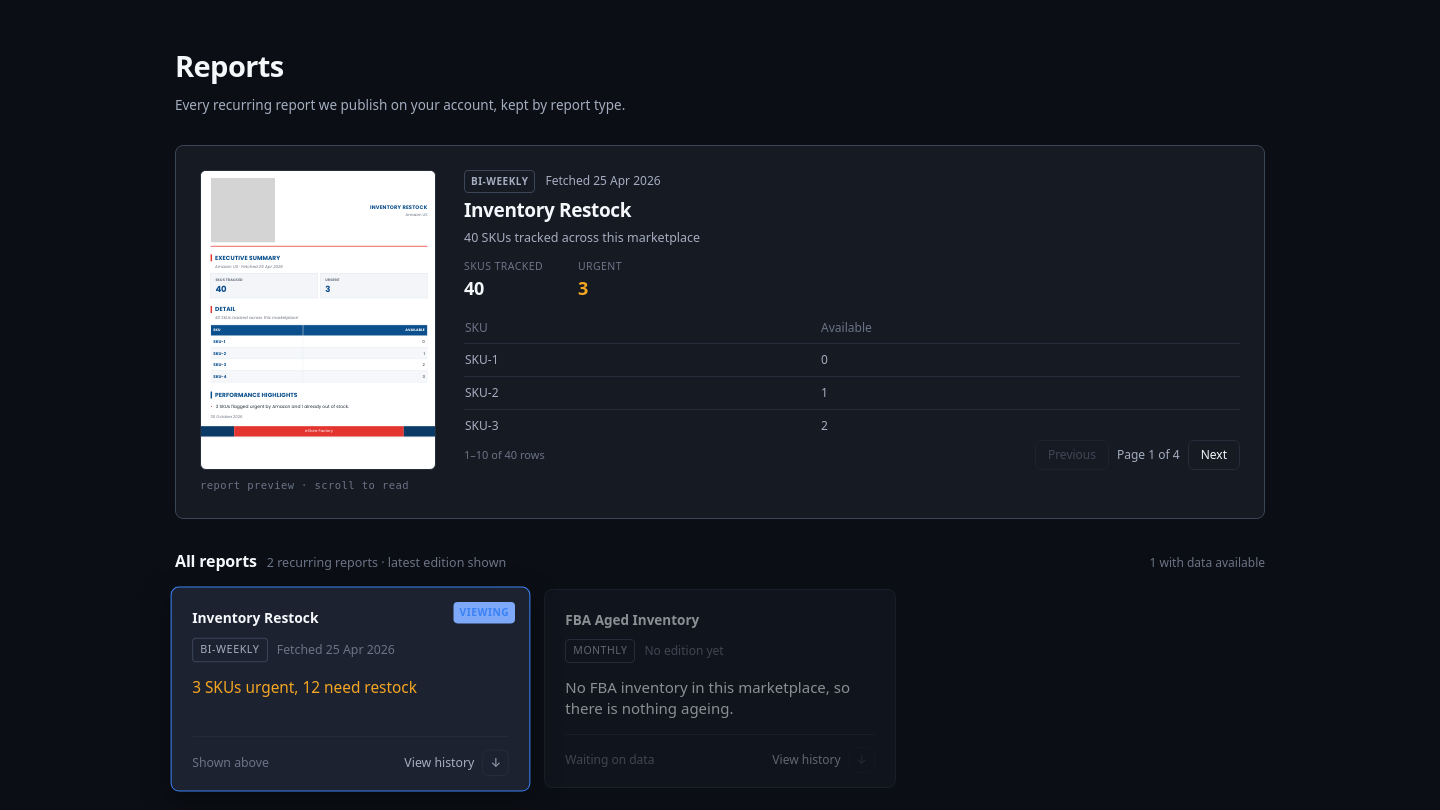
Test: ESF Reports page › fetches the next page and leaves the first page untouched going back
Check: the text "1–10 of 40 rows" is shown, box left=464, top=446, right=545, bottom=462
Click the button "Next" at (1214, 455), box left=1188, top=440, right=1240, bottom=470
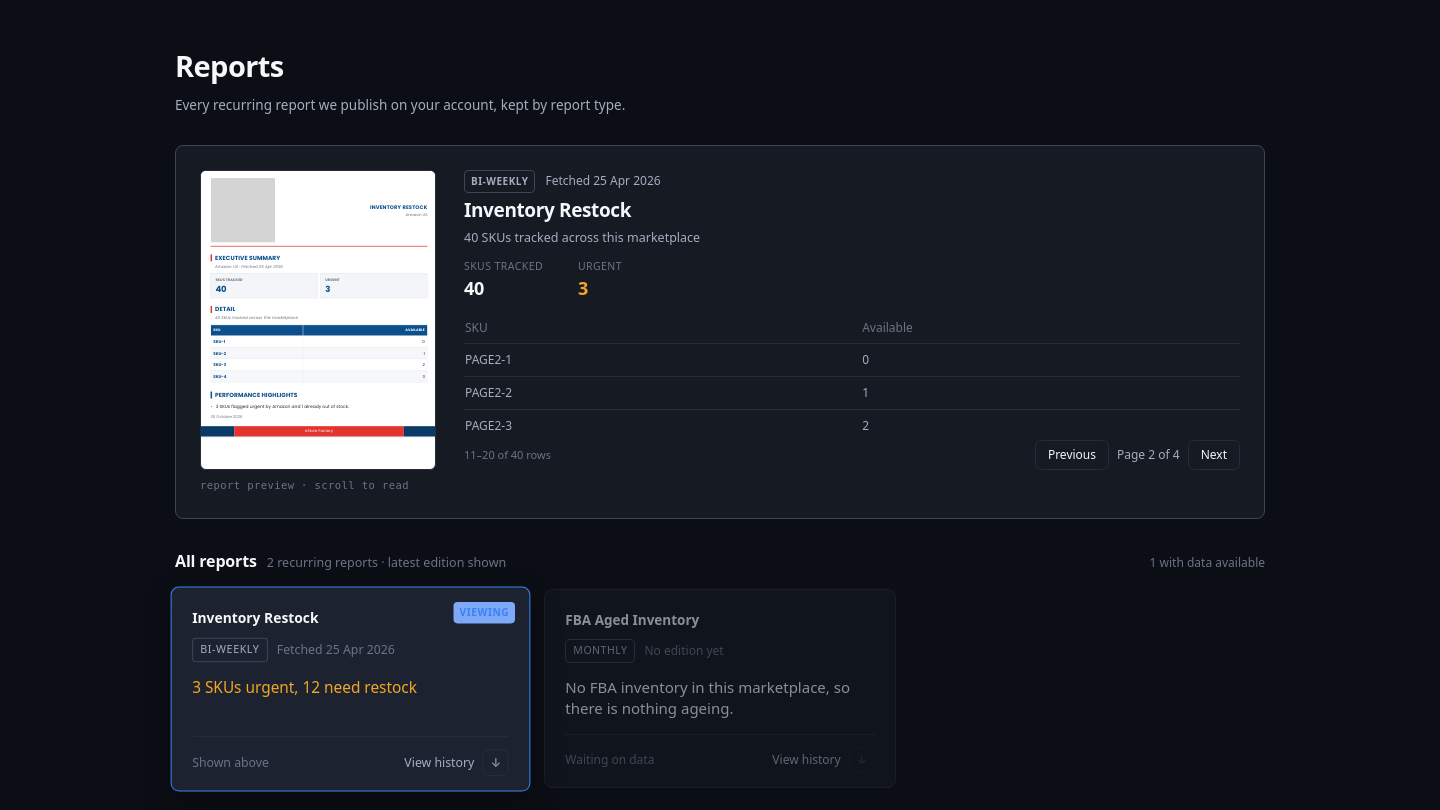
Check: the text "Page 2 of 4" is shown, box left=1117, top=447, right=1180, bottom=463
Check: the text "PAGE2-1" is shown, box left=464, top=344, right=861, bottom=376
# Going back to page 1 uses the rows that came with the card — no refetch.
Click the button "Previous" at (1072, 455), box left=1035, top=440, right=1109, bottom=470
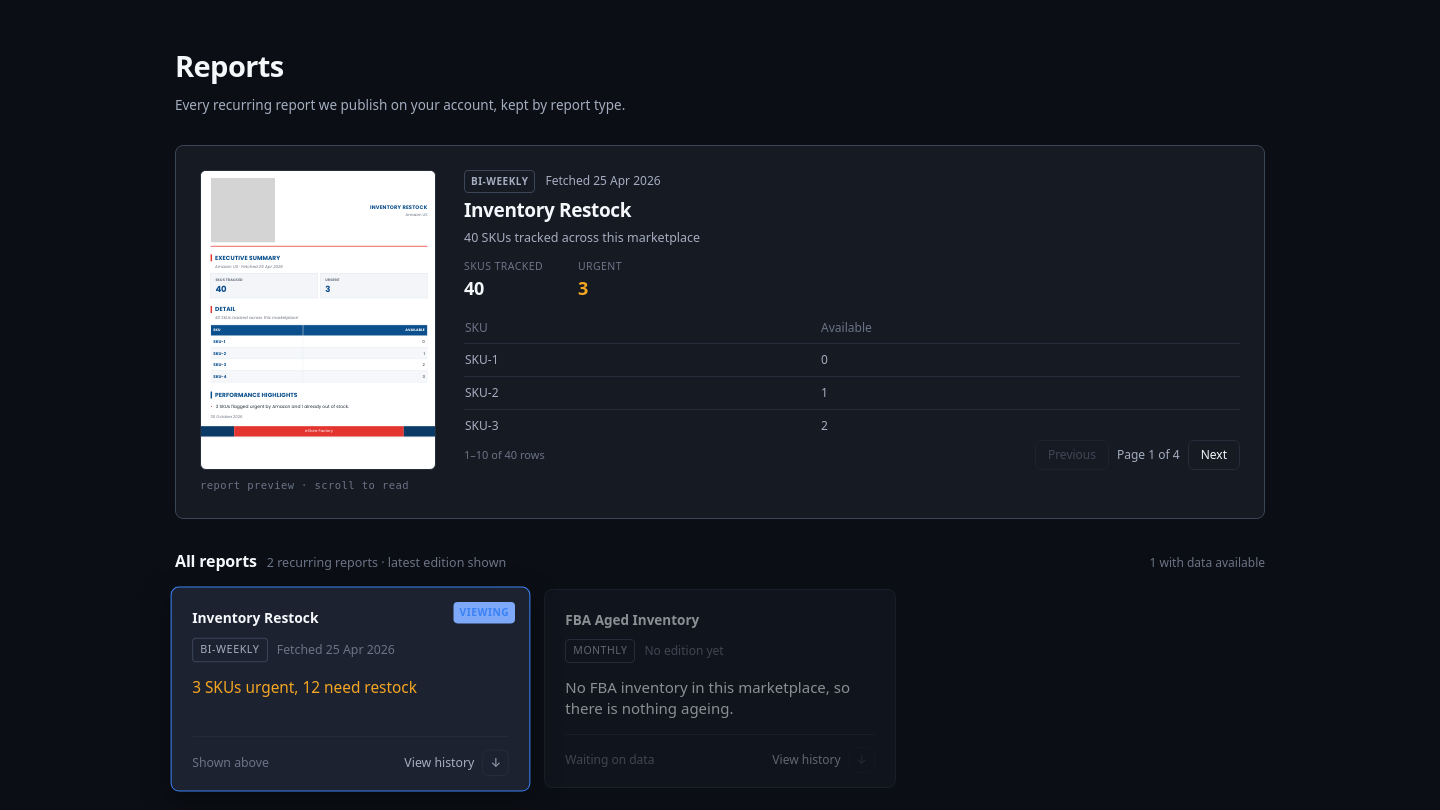
Check: the text "1–10 of 40 rows" is shown, box left=464, top=446, right=545, bottom=462
